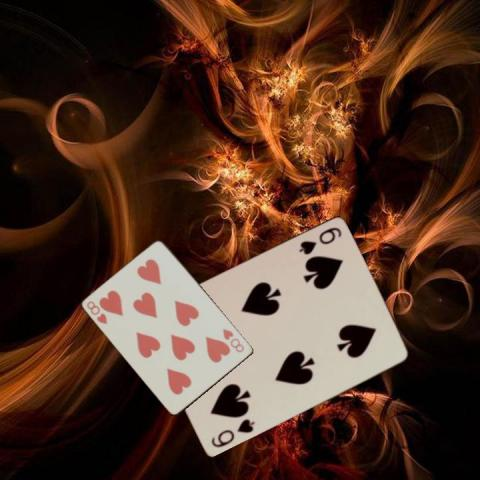6s: (208, 416, 256, 449), (295, 225, 343, 256)
8h: (220, 325, 246, 354), (84, 298, 109, 326)
